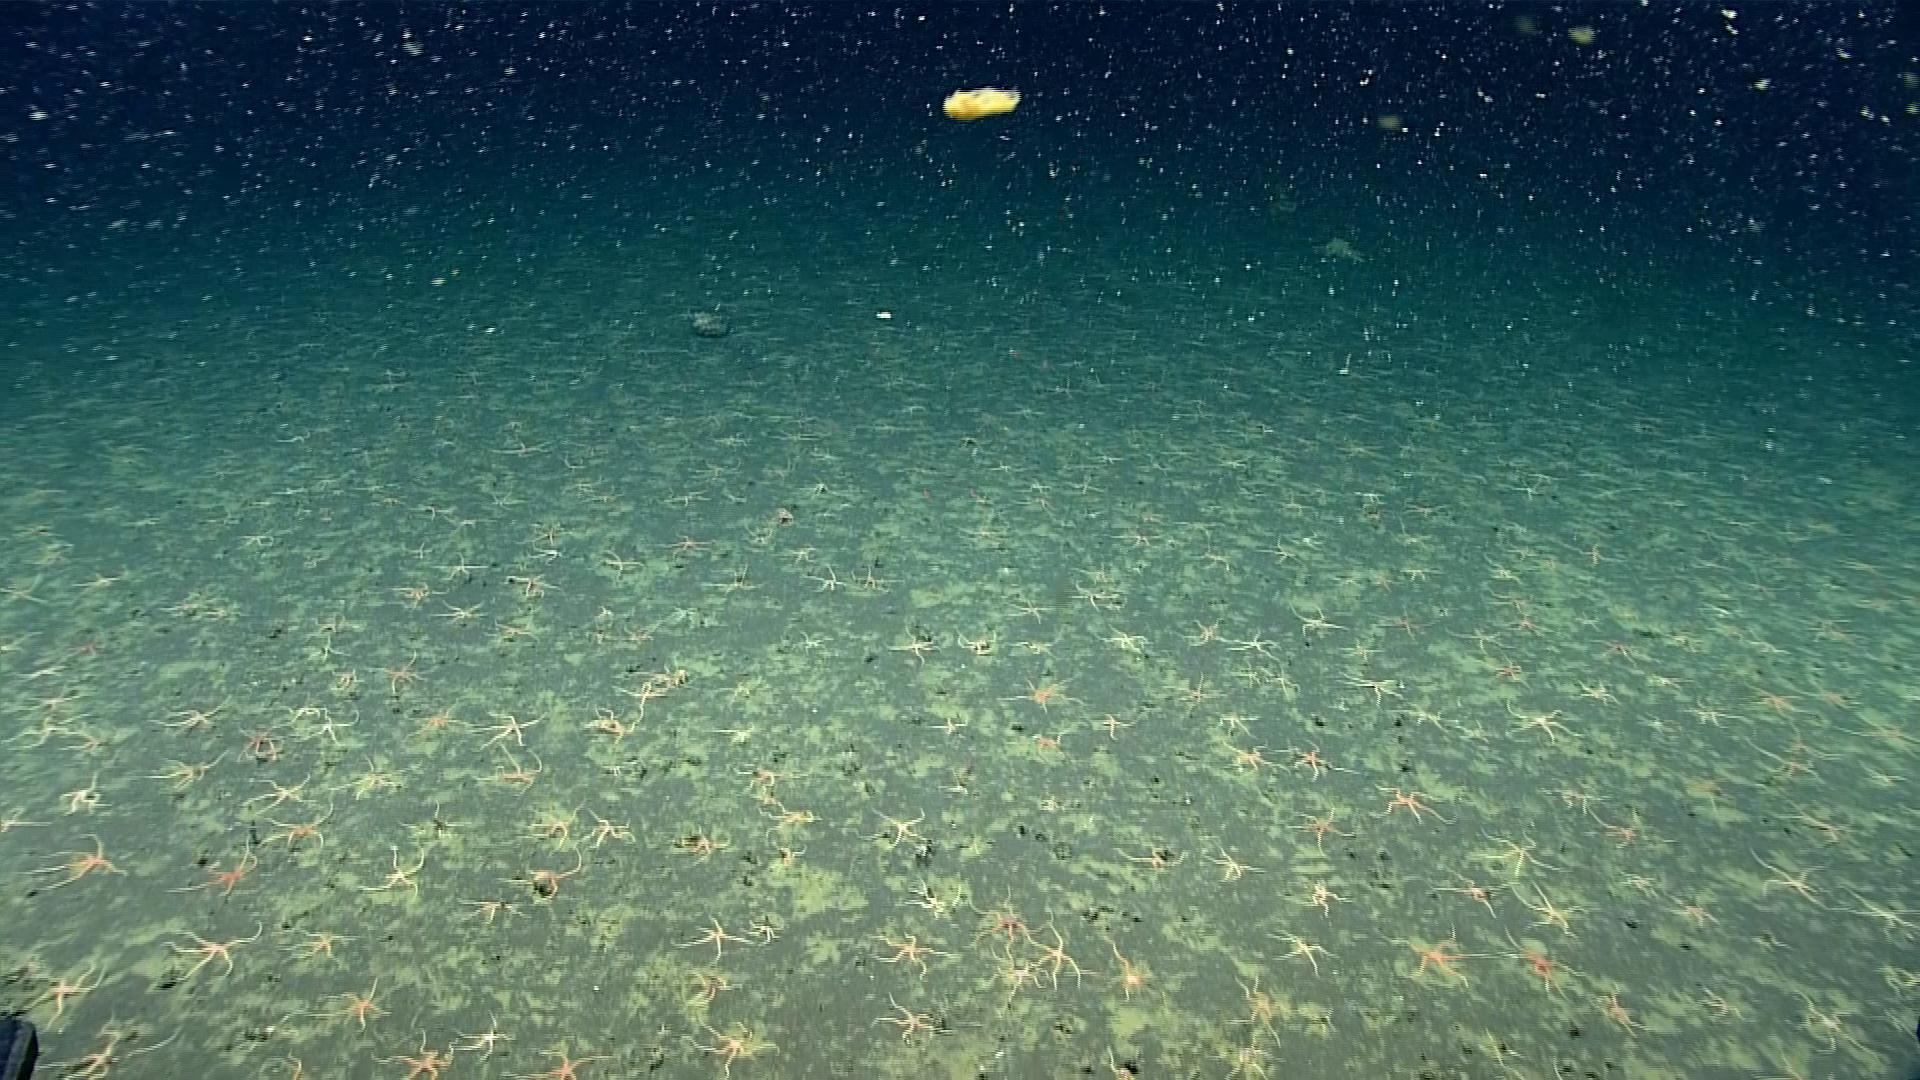brittle_sea_star: (1782, 981, 1883, 1060), (1377, 920, 1490, 989), (1499, 922, 1582, 1004), (162, 919, 264, 985), (17, 960, 111, 1031), (42, 1027, 169, 1079), (20, 833, 128, 890), (165, 833, 257, 899), (1470, 823, 1572, 880), (1510, 876, 1592, 942), (967, 885, 1046, 952), (687, 1011, 774, 1072), (1746, 845, 1826, 909), (1833, 882, 1919, 940), (1428, 864, 1514, 918), (310, 976, 390, 1033), (866, 931, 957, 981), (1367, 779, 1457, 829), (670, 913, 757, 964), (327, 754, 419, 802), (1225, 973, 1283, 1048), (1025, 919, 1081, 992), (1580, 807, 1671, 852), (868, 992, 953, 1039), (504, 849, 583, 899), (1100, 934, 1158, 1001), (375, 1029, 452, 1079), (1841, 712, 1919, 762), (253, 803, 332, 852), (984, 943, 1047, 1004), (865, 806, 932, 860), (1503, 699, 1585, 742), (1266, 927, 1338, 976), (1749, 1040, 1840, 1079), (1284, 806, 1354, 855), (1745, 738, 1818, 785), (145, 694, 231, 733), (149, 749, 228, 791), (450, 1010, 514, 1062), (359, 847, 425, 897), (280, 926, 355, 969), (477, 748, 546, 795), (1774, 802, 1850, 844), (1218, 737, 1290, 781), (516, 1046, 609, 1079), (724, 760, 807, 796), (524, 800, 585, 849), (397, 800, 467, 843), (1009, 675, 1085, 713), (397, 702, 471, 741), (1598, 984, 1654, 1036), (0, 713, 74, 753), (245, 773, 313, 815), (902, 874, 963, 920), (475, 709, 543, 749), (753, 798, 823, 836), (1333, 669, 1403, 707), (58, 769, 113, 816), (1286, 741, 1349, 782), (1203, 843, 1267, 882), (456, 893, 530, 927), (375, 647, 426, 695), (683, 967, 740, 1009), (1162, 671, 1226, 708), (433, 546, 497, 583), (887, 624, 942, 667), (649, 530, 712, 566), (1287, 601, 1348, 638), (294, 712, 357, 746), (584, 705, 641, 742), (1683, 770, 1733, 811), (584, 807, 632, 849), (1302, 880, 1356, 916), (1665, 893, 1720, 930), (1089, 620, 1147, 654), (1371, 604, 1429, 638), (1441, 625, 1510, 654), (388, 579, 450, 611), (1585, 636, 1647, 667), (1178, 618, 1245, 647), (1118, 845, 1188, 873), (1697, 986, 1747, 1025), (1222, 1043, 1282, 1075), (1782, 728, 1834, 764), (1545, 782, 1600, 816), (589, 549, 645, 582), (435, 596, 489, 629), (611, 680, 667, 711), (1687, 698, 1742, 728), (492, 611, 541, 645), (1396, 702, 1449, 733), (1751, 684, 1799, 719), (502, 570, 558, 599), (0, 804, 53, 835), (1809, 679, 1862, 709), (1226, 629, 1280, 658), (1615, 868, 1663, 901), (1286, 1004, 1337, 1034), (524, 537, 575, 567), (953, 520, 1011, 546), (632, 663, 692, 688), (1102, 525, 1163, 550), (1722, 626, 1783, 651), (1386, 518, 1433, 550), (716, 560, 758, 596), (1265, 488, 1316, 517), (1569, 676, 1618, 707), (70, 570, 123, 597), (0, 574, 46, 605), (1808, 618, 1861, 646), (303, 637, 351, 667), (1484, 562, 1527, 595), (679, 829, 731, 857), (1029, 731, 1068, 766), (281, 1038, 315, 1079), (1189, 538, 1230, 572), (1261, 534, 1305, 564), (1010, 489, 1062, 516), (1878, 961, 1919, 994), (1063, 580, 1106, 611), (236, 727, 277, 758), (952, 624, 996, 653), (742, 915, 782, 947), (1623, 641, 1671, 667), (24, 692, 83, 713), (1006, 638, 1062, 661), (804, 563, 847, 592), (1263, 666, 1302, 698), (1007, 597, 1052, 624), (1333, 638, 1386, 661), (852, 563, 891, 592), (1096, 711, 1135, 740), (4, 663, 66, 682), (58, 733, 108, 756), (161, 592, 206, 617), (1453, 716, 1493, 744), (489, 439, 547, 458), (611, 624, 655, 647), (310, 613, 360, 634), (1102, 1044, 1131, 1079), (795, 628, 832, 654), (444, 513, 497, 531), (1660, 628, 1701, 651), (770, 839, 804, 866), (1642, 671, 1692, 690), (1216, 713, 1257, 736), (1636, 711, 1677, 733), (712, 721, 754, 742), (1064, 473, 1104, 496), (69, 636, 108, 658), (1077, 558, 1112, 583), (1507, 613, 1545, 636), (691, 460, 737, 479), (1362, 568, 1398, 592), (1491, 657, 1523, 683), (1209, 452, 1251, 472), (1403, 500, 1448, 518), (193, 597, 229, 620), (326, 666, 359, 691), (1398, 564, 1445, 582), (765, 500, 799, 524), (1691, 553, 1731, 572), (926, 716, 968, 735), (1230, 661, 1261, 686), (745, 525, 775, 550), (810, 447, 851, 465), (716, 679, 750, 700), (783, 543, 819, 563), (940, 767, 967, 794), (663, 489, 707, 505), (1571, 609, 1601, 632), (117, 514, 164, 529), (800, 480, 839, 497), (1506, 483, 1544, 500), (282, 702, 326, 716), (591, 603, 618, 625), (235, 533, 270, 550), (407, 502, 454, 516), (530, 525, 560, 541), (406, 541, 434, 558), (585, 628, 609, 646), (566, 480, 599, 492), (989, 459, 1011, 473)
